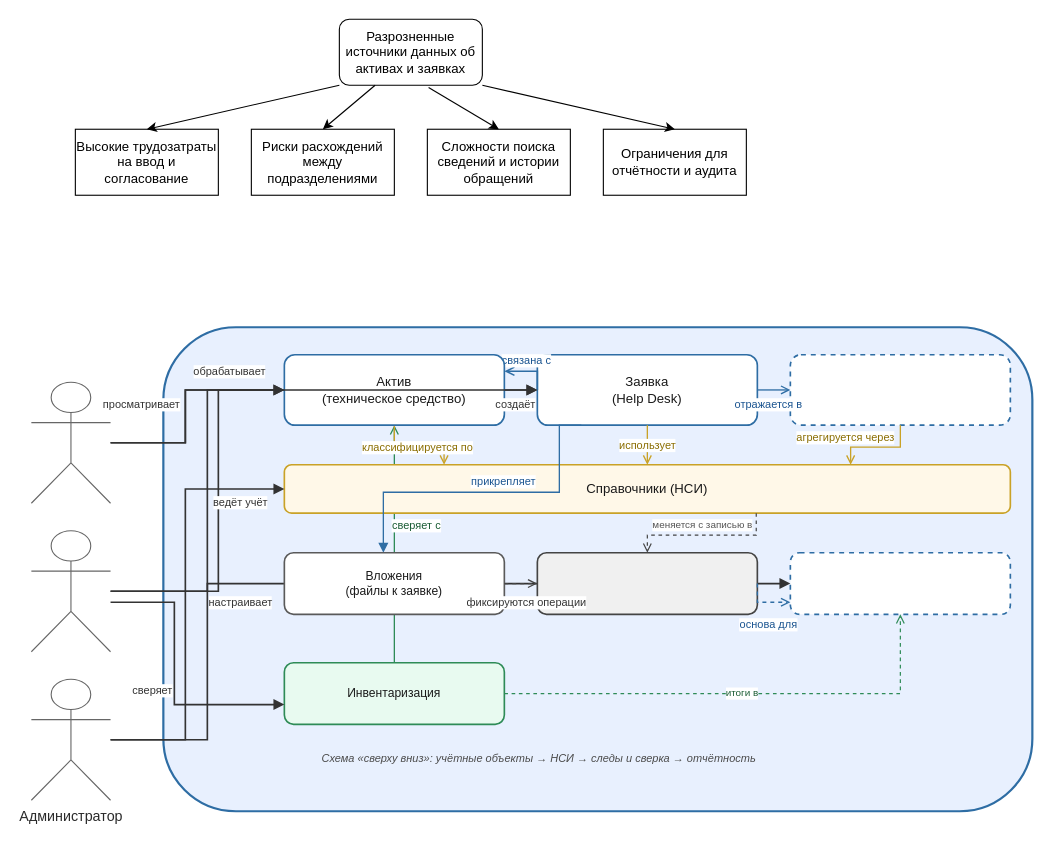
Some shapes in this 1052 by 845 pixel diagram are drawn without their labels. The shapes that lost their labels are listed below. From the top down, each one's centre as x and y in pixels, then its label:
At pixel 900 389: "Карточка пользователя (закреплённые ТС)".
At pixel 70 442: "Пользователь".
At pixel 70 591: "Оператор".
At pixel 647 583: "Журнал аудита (прослеживаемость)".
At pixel 900 583: "Отчёты и выборки".
